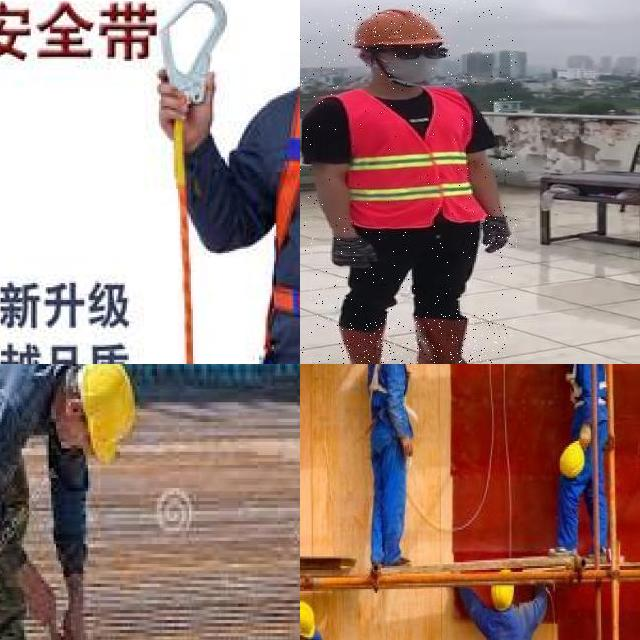boots: (415, 312, 505, 364), (335, 322, 411, 364)
head_helmet: (75, 364, 141, 470), (348, 5, 445, 50)
person: (300, 1, 518, 364), (0, 364, 152, 640)
vest: (327, 86, 490, 228)
